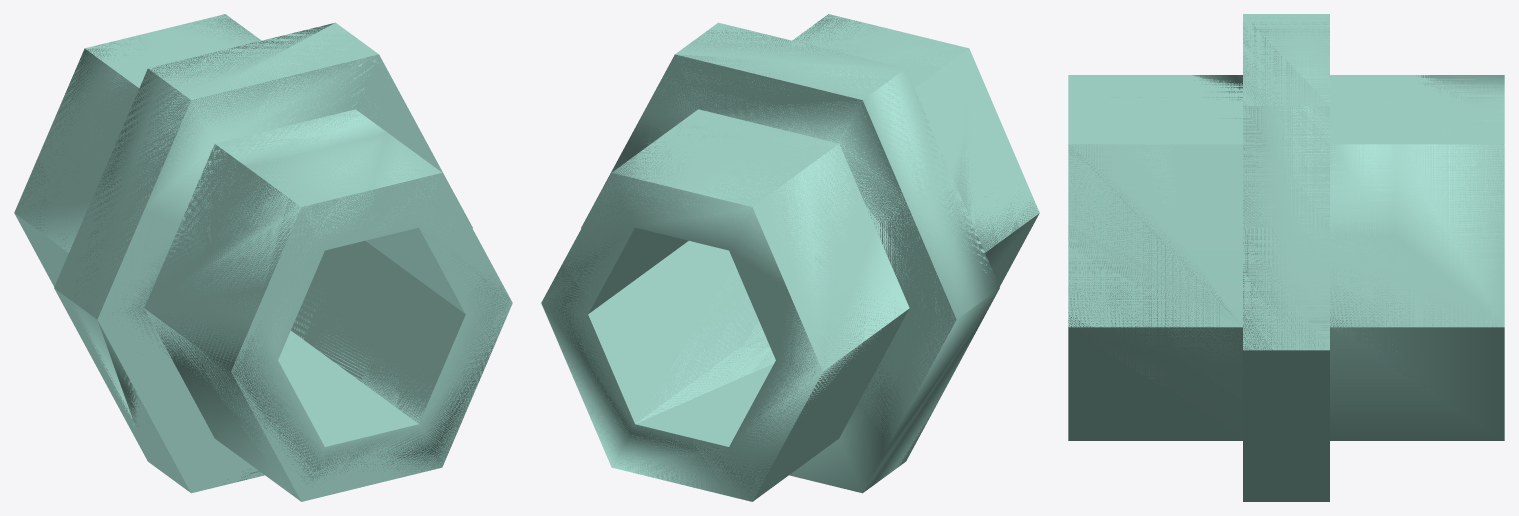
File: space-kit__pipe_ring.glb
3 views of the same model, side by side, from view 1: azimuth 30°, elevation 25°; view 2: azimuth 150°, elevation 25°; view 3: azimuth 270°, elevation 25° (orthographic).
Parts seen in each view (by area): view 1: L0_accent, L1_accent; view 2: L0_accent, L1_accent; view 3: L0_accent, L1_accent.
Part boxes in pixels (x1=…): L0_accent: x1=14, y1=14, x2=512, y2=501; L1_accent: x1=22, y1=14, x2=509, y2=500; L0_accent: x1=542, y1=14, x2=1039, y2=501; L1_accent: x1=541, y1=14, x2=1038, y2=501; L0_accent: x1=1068, y1=14, x2=1504, y2=501; L1_accent: x1=1068, y1=18, x2=1504, y2=390.
Size of the model in its own units: 1 by 1 by 1.
